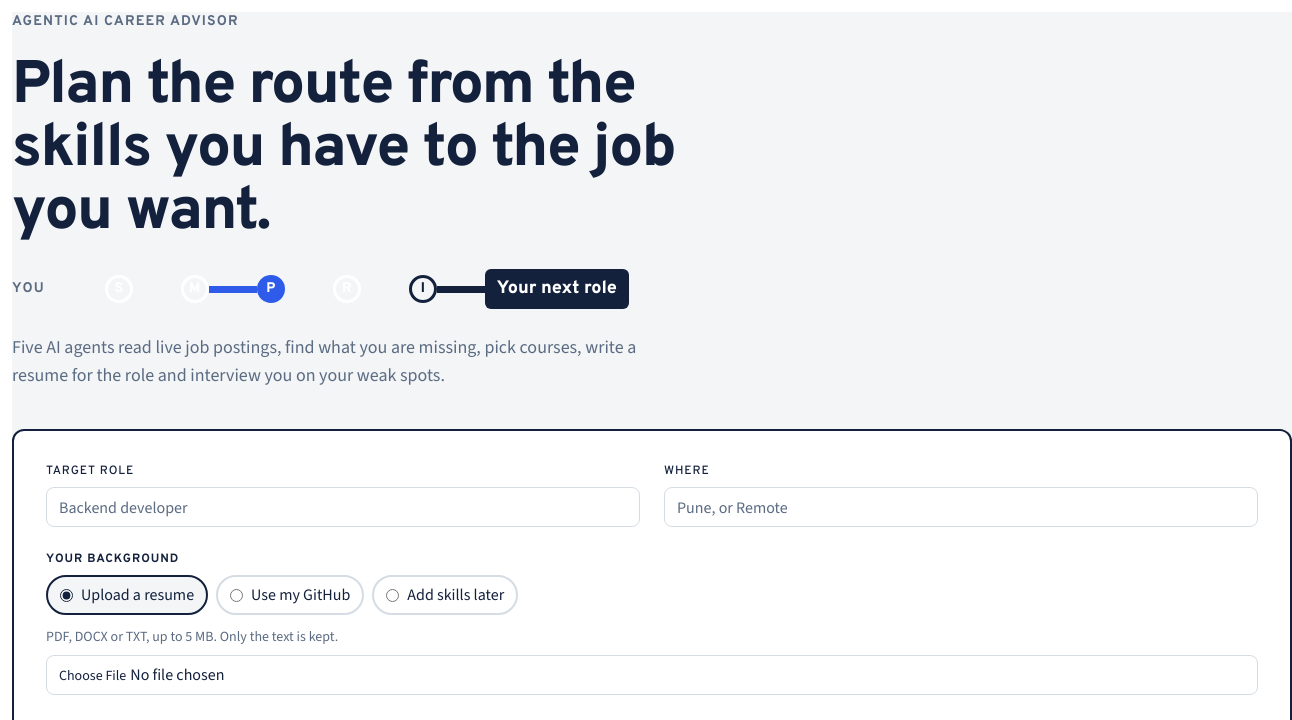
StartForm › shows the role being typed at the end of the route
Type "Data Engineer" into the field labelled "Target role". click: (343,507)
box: [46,487,640,527]
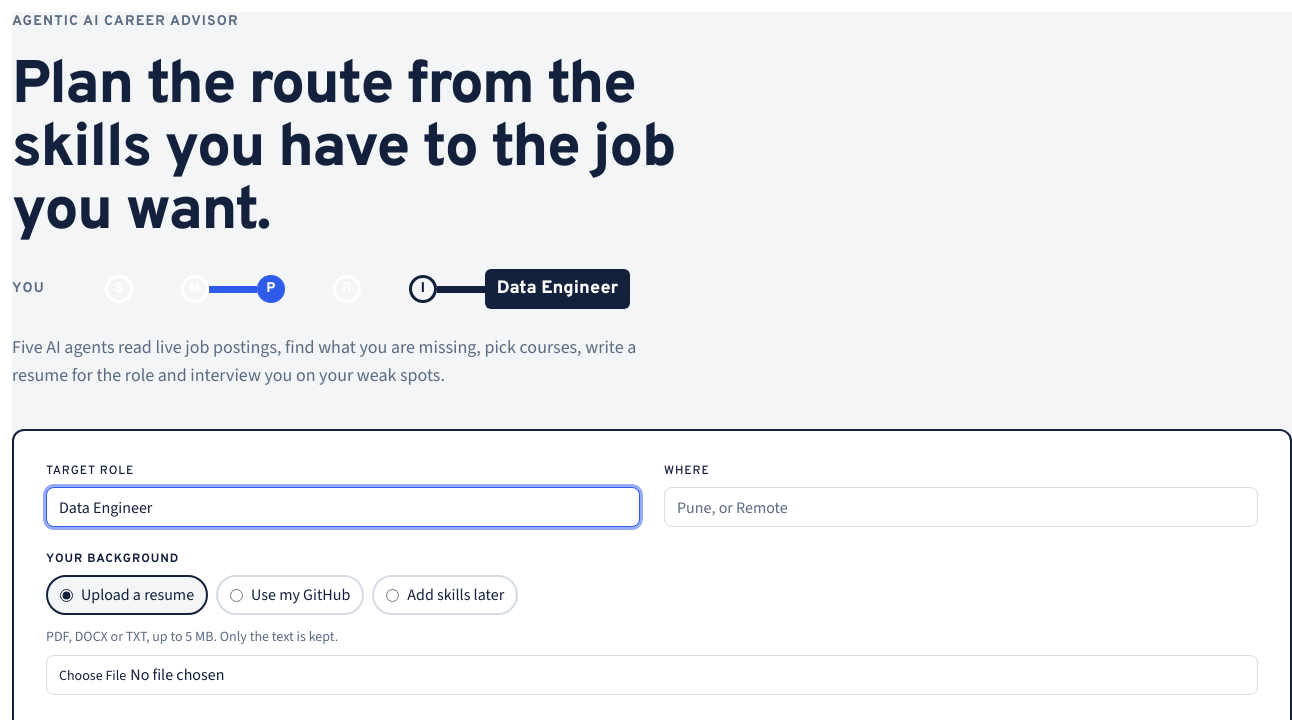
Check: the text "Data Engineer" is shown, box [485,269,630,309]
